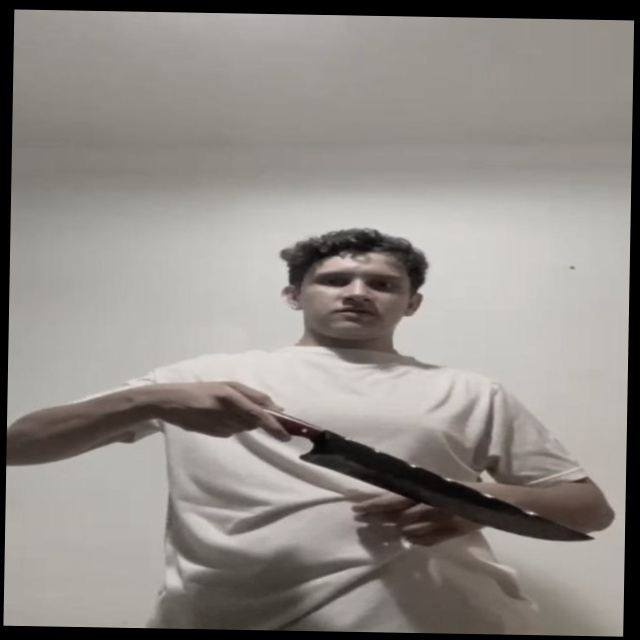Sharp-Object: (302, 438, 591, 544)
